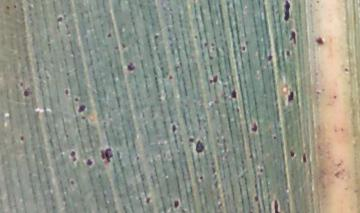tarspot: (98, 144, 114, 165), (282, 1, 292, 24), (287, 28, 300, 44), (195, 138, 207, 154), (68, 148, 79, 165), (208, 72, 221, 86), (271, 195, 281, 213), (284, 89, 296, 104), (287, 146, 298, 161), (250, 192, 262, 205), (171, 198, 183, 210), (314, 34, 325, 47), (126, 61, 137, 73), (248, 122, 260, 133), (151, 31, 162, 43), (283, 47, 295, 58), (169, 122, 179, 135), (75, 104, 89, 113), (301, 152, 310, 166), (143, 194, 153, 206), (21, 89, 33, 99), (264, 52, 275, 62), (165, 72, 175, 83), (196, 172, 205, 184), (105, 29, 114, 41), (84, 158, 94, 168), (62, 86, 71, 97), (230, 86, 237, 100), (67, 177, 77, 186), (54, 15, 65, 23), (17, 134, 26, 143), (239, 44, 247, 54), (270, 133, 278, 142), (258, 166, 266, 174)
